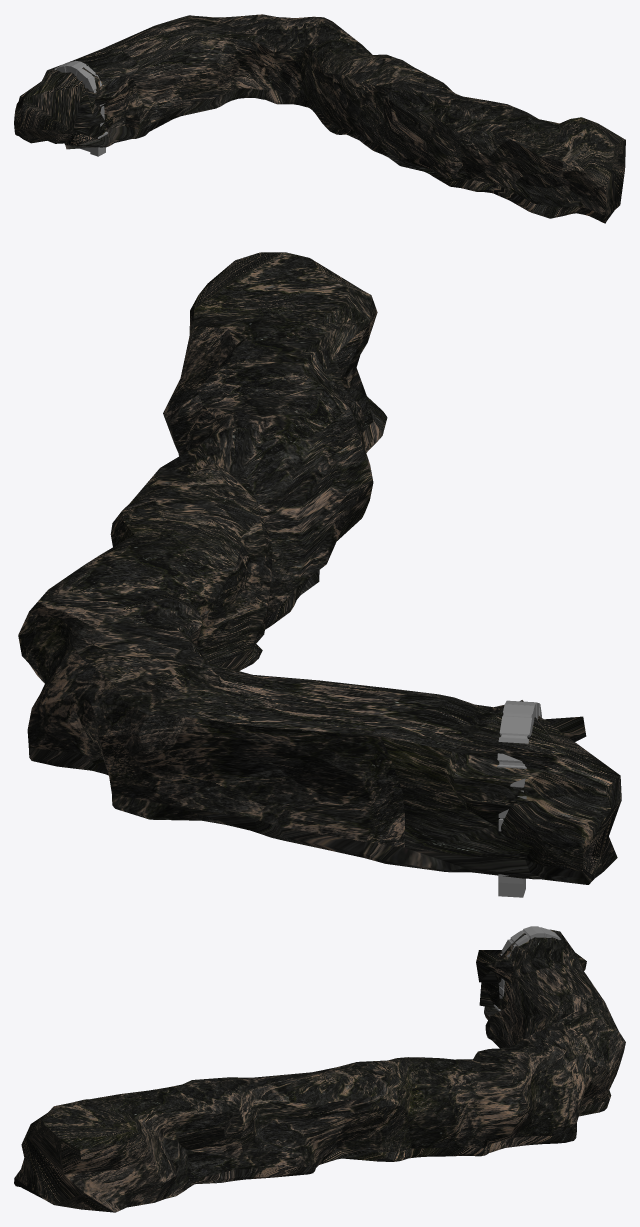
Rendered from CuevaSinBossFight2.fbx.
The picture shows the model from 3 angles, top to bottom: view 1: azimuth 30°, elevation 25°; view 2: azimuth 150°, elevation 25°; view 3: azimuth 270°, elevation 25°; orthographic projection. The views are drawn at different scales.
Visible parts, largest first — view 1: Cube; view 2: Cube; view 3: Cube.
Part boxes in pixels (bbox=[...]): Cube: bbox=[14, 14, 625, 223]; Cube: bbox=[18, 252, 621, 897]; Cube: bbox=[14, 926, 625, 1212].
Bounding box in the file's own units: 204619 × 39711 × 230795.
4 materials, 1 textured.
